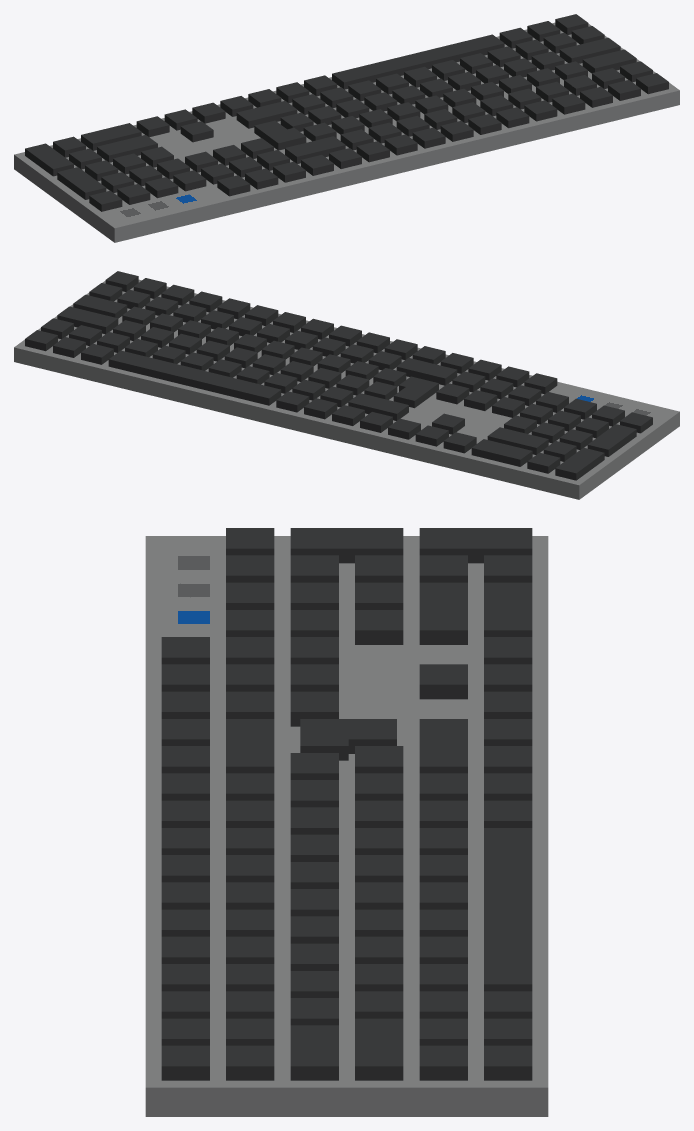
File: keyboard.glb
3 renders of one model, top to bottom at view 1: azimuth 30°, elevation 25°; view 2: azimuth 150°, elevation 25°; view 3: azimuth 270°, elevation 25°, orthographic. The views are drawn at different scales.
Parts seen in each view (by area): view 1: cube_0, cube_10, cube_21, cube_93, cube_74, cube_81, cube_80, cube_3, cube_78, cube_2, cube_92, cube_65 (+87 smaller); view 2: cube_0, cube_10, cube_78, cube_93, cube_80, cube_3, cube_21, cube_81, cube_74, cube_2, cube_87, cube_79 (+87 smaller); view 3: cube_0, cube_10, cube_80, cube_81, cube_3, cube_74, cube_2, cube_21, cube_78, cube_93, cube_1, cube_4 (+87 smaller).
Boxes of the visible parts, x1=… form: cube_0: x1=14, y1=22, x2=679, y2=242; cube_10: x1=332, y1=34, x2=504, y2=89; cube_21: x1=236, y1=101, x2=297, y2=128; cube_93: x1=285, y1=136, x2=345, y2=163; cube_74: x1=97, y1=135, x2=157, y2=162; cube_81: x1=57, y1=167, x2=106, y2=199; cube_80: x1=25, y1=143, x2=73, y2=176; cube_3: x1=559, y1=37, x2=620, y2=63; cube_78: x1=81, y1=123, x2=141, y2=150; cube_2: x1=582, y1=49, x2=636, y2=73; cube_92: x1=266, y1=128, x2=306, y2=150; cube_65: x1=217, y1=175, x2=250, y2=196; cube_0: x1=14, y1=279, x2=679, y2=499; cube_10: x1=108, y1=350, x2=281, y2=405; cube_78: x1=471, y1=439, x2=532, y2=466; cube_93: x1=396, y1=358, x2=457, y2=385; cube_80: x1=555, y1=447, x2=604, y2=480; cube_3: x1=57, y1=306, x2=118, y2=334; cube_21: x1=348, y1=393, x2=408, y2=420; cube_81: x1=587, y1=424, x2=636, y2=456; cube_74: x1=487, y1=427, x2=548, y2=454; cube_2: x1=73, y1=294, x2=127, y2=318; cube_87: x1=443, y1=432, x2=476, y2=453; cube_79: x1=527, y1=452, x2=560, y2=473; cube_0: x1=145, y1=536, x2=548, y2=1116; cube_10: x1=484, y1=828, x2=532, y2=991; cube_80: x1=419, y1=528, x2=532, y2=563; cube_81: x1=290, y1=528, x2=403, y2=563; cube_3: x1=355, y1=1018, x2=403, y2=1080; cube_74: x1=419, y1=582, x2=467, y2=644; cube_2: x1=290, y1=1025, x2=338, y2=1080; cube_21: x1=419, y1=719, x2=467, y2=773; cube_78: x1=484, y1=582, x2=532, y2=636; cube_93: x1=226, y1=719, x2=274, y2=773; cube_1: x1=226, y1=1045, x2=274, y2=1080; cube_4: x1=419, y1=1045, x2=467, y2=1080.
Size of the model in its own units: 1.27 by 0.0469 by 0.3906.
1 material, 1 textured.
